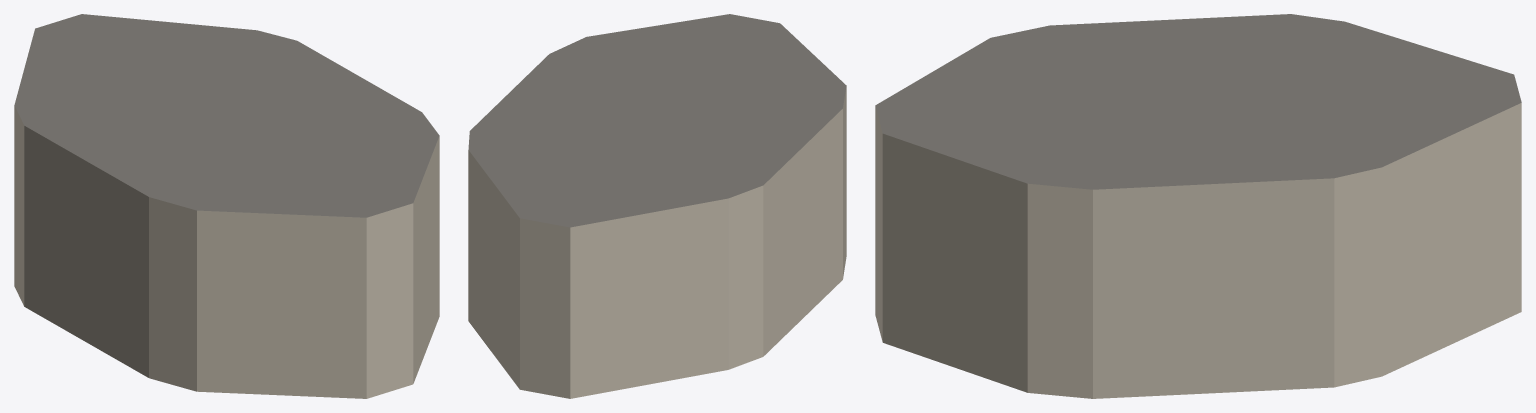
The picture shows the model from 3 angles, left to right: view 1: azimuth 30°, elevation 25°; view 2: azimuth 150°, elevation 25°; view 3: azimuth 270°, elevation 25°; orthographic projection. The views are drawn at different scales.
Visible parts, largest first — view 1: HP-w1435620377; view 2: HP-w1435620377; view 3: HP-w1435620377.
Boxes of the visible parts, x1,y1,x2,y2 form: HP-w1435620377: (14, 14, 439, 398); HP-w1435620377: (468, 14, 846, 398); HP-w1435620377: (875, 14, 1521, 398).
Size of the model in its own units: 32.43 by 18 by 50.41.
